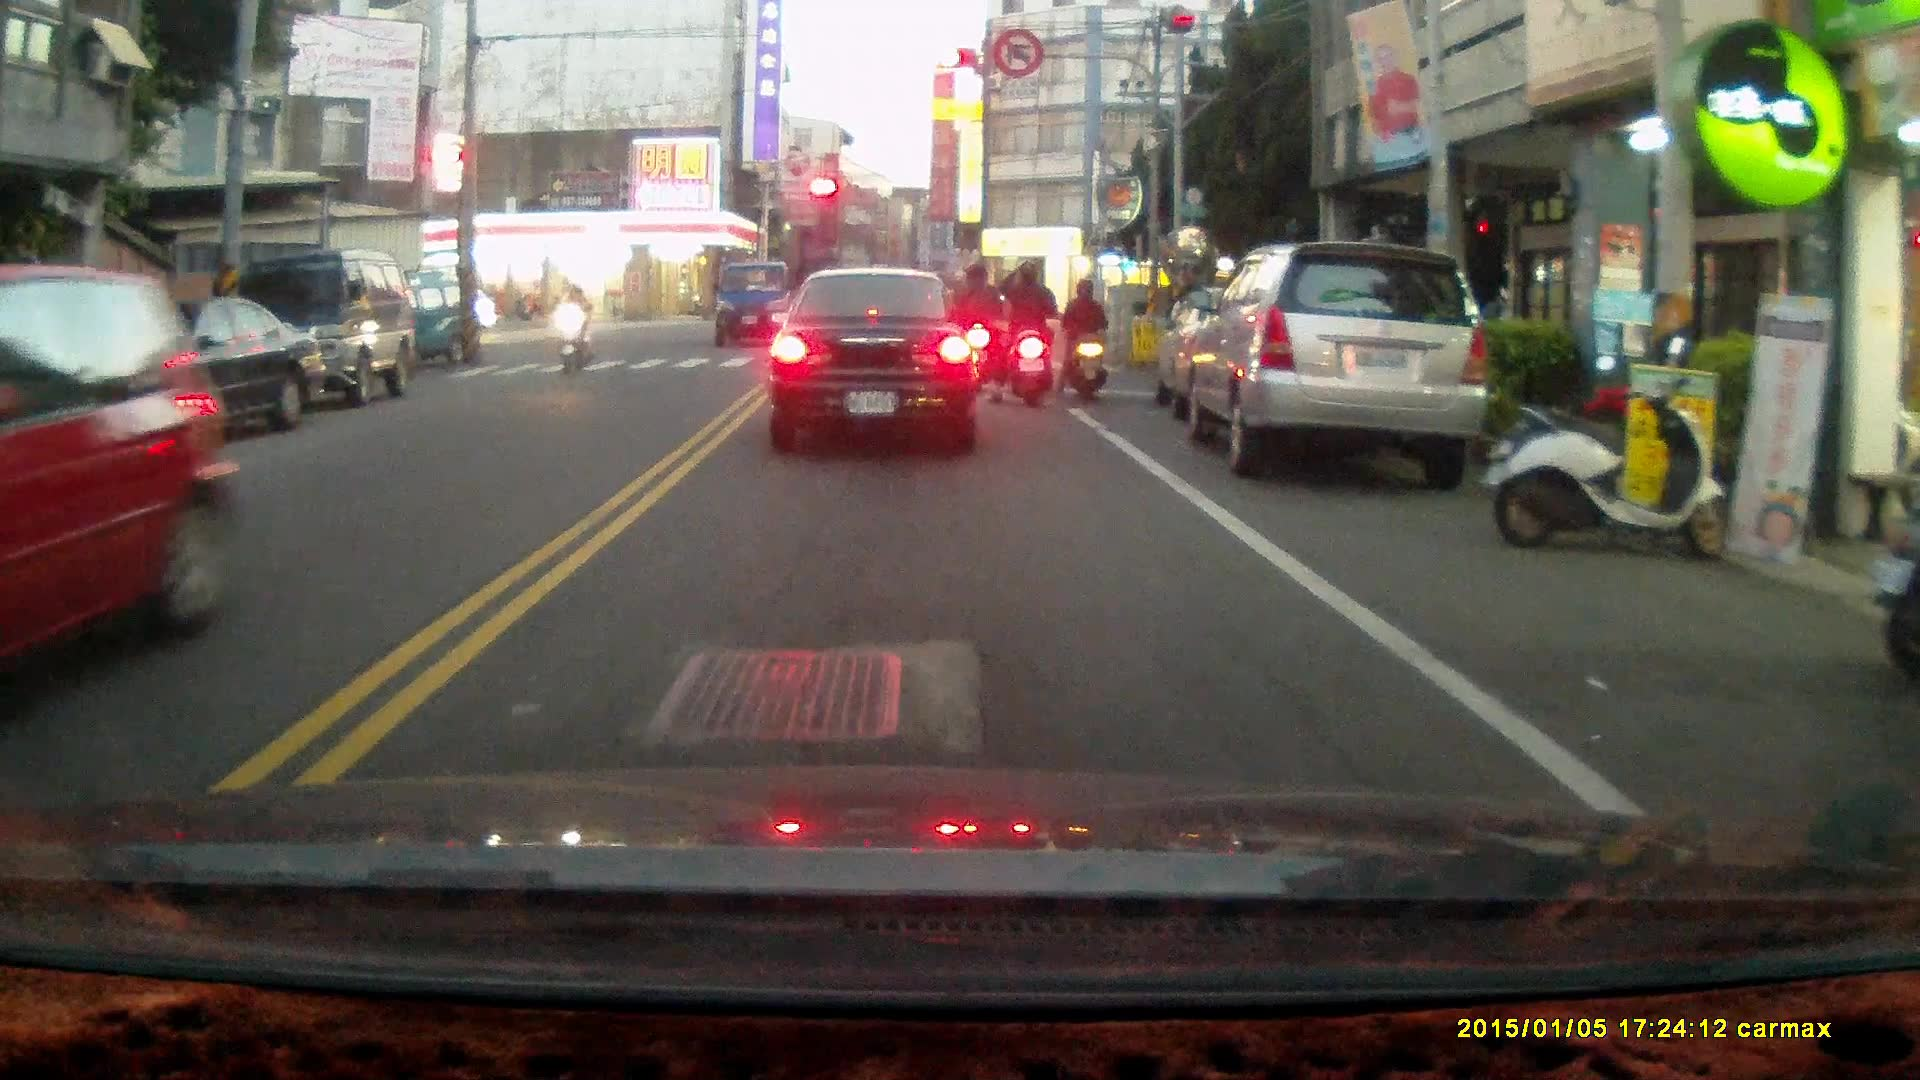rider: (989, 257, 1061, 411), (1055, 275, 1111, 402), (949, 263, 999, 390), (559, 282, 593, 377)
vehicle: (1, 263, 246, 715), (1172, 242, 1483, 480), (52, 297, 312, 462), (772, 267, 985, 452), (206, 247, 413, 406)
